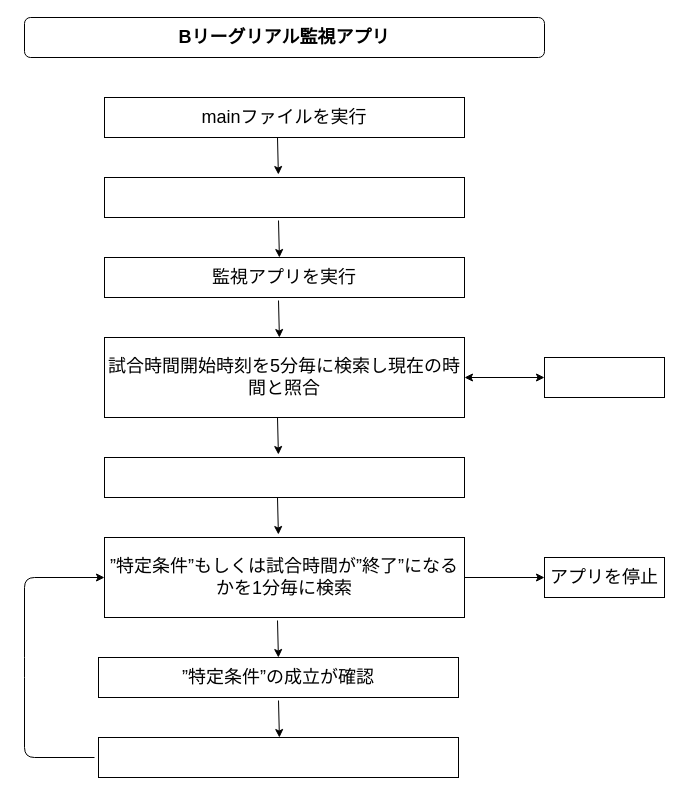
Image size: 682x795. Some labels were removed from this diagram. The shapes that lost their labels are listed below. From the top down, each one's centre as x and y in pixels, then its label:
At (284,197): "試合毎のファイル+監視アプリが生成".
At (604,377): "待機".
At (284,477): "試合をリアルタイム監視".
At (278,757): "lineAPIを通じてlineに通知".
